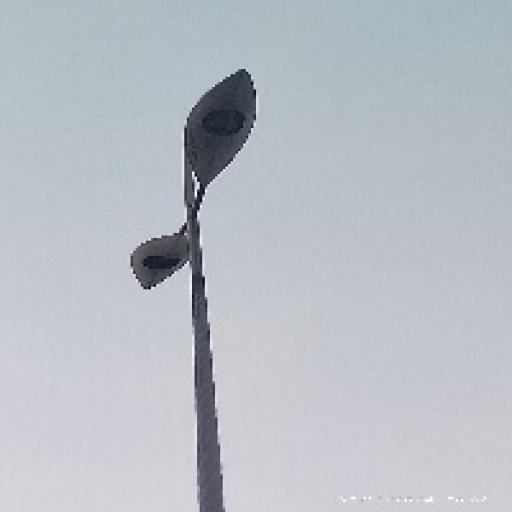Not Working: (176, 56, 275, 197), (114, 227, 211, 307)
